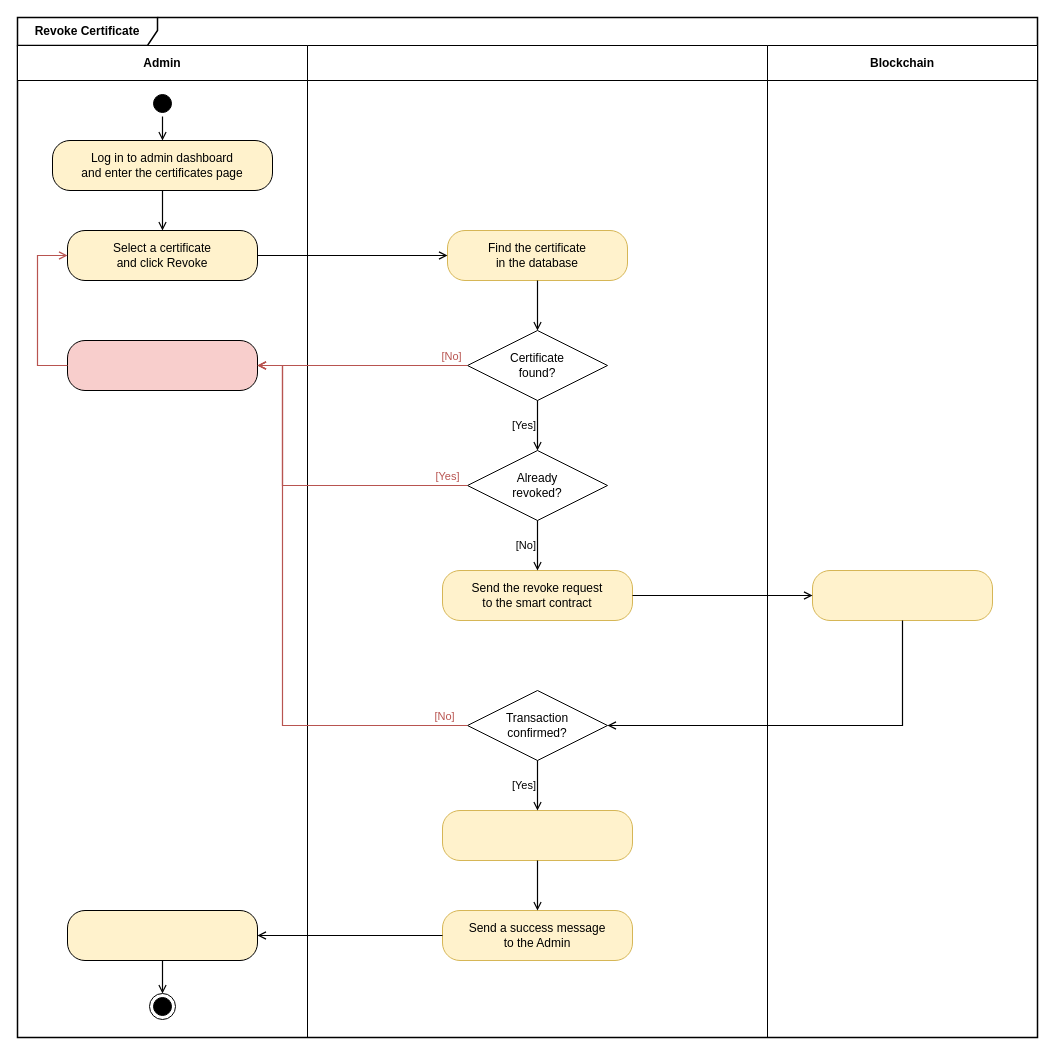
This 1056x1056 diagram has some shape labels left out. The box of each missing label's shape, as (x1, y1, x2, y2) in pixels:
Mark the certificate as revoked on the blockchain: (812, 570, 992, 620)
See the confirmation: certificate revoked: (66, 910, 258, 960)
Set the status to REVOKED in the database: (442, 810, 632, 860)
Show an error message: (66, 340, 258, 390)
System: (306, 44, 768, 1038)
